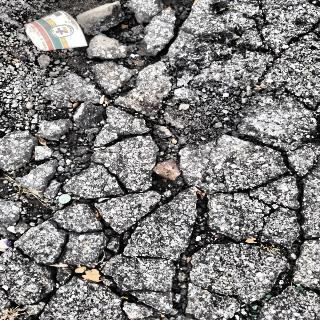alligator-crack: (24, 19, 318, 318)
